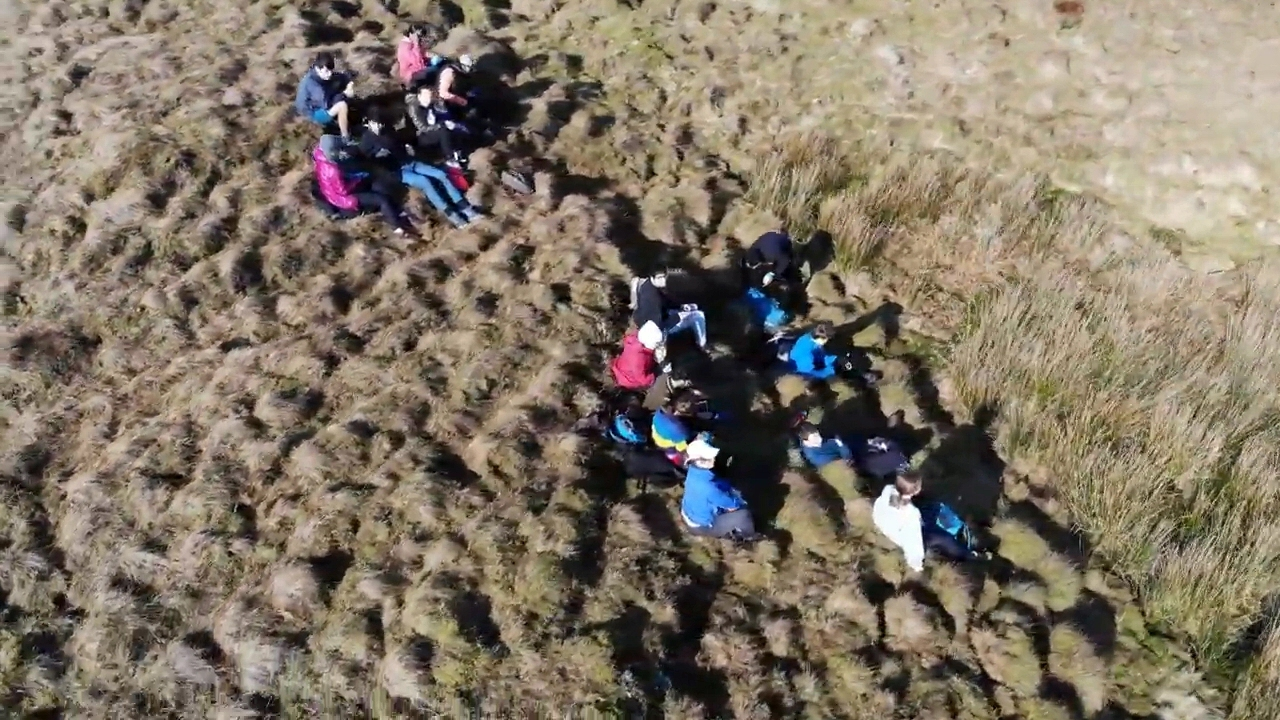insan: (363, 104, 490, 230), (303, 133, 412, 232), (871, 467, 976, 560), (680, 440, 763, 539), (636, 264, 719, 353), (290, 52, 362, 144), (787, 322, 878, 382)
